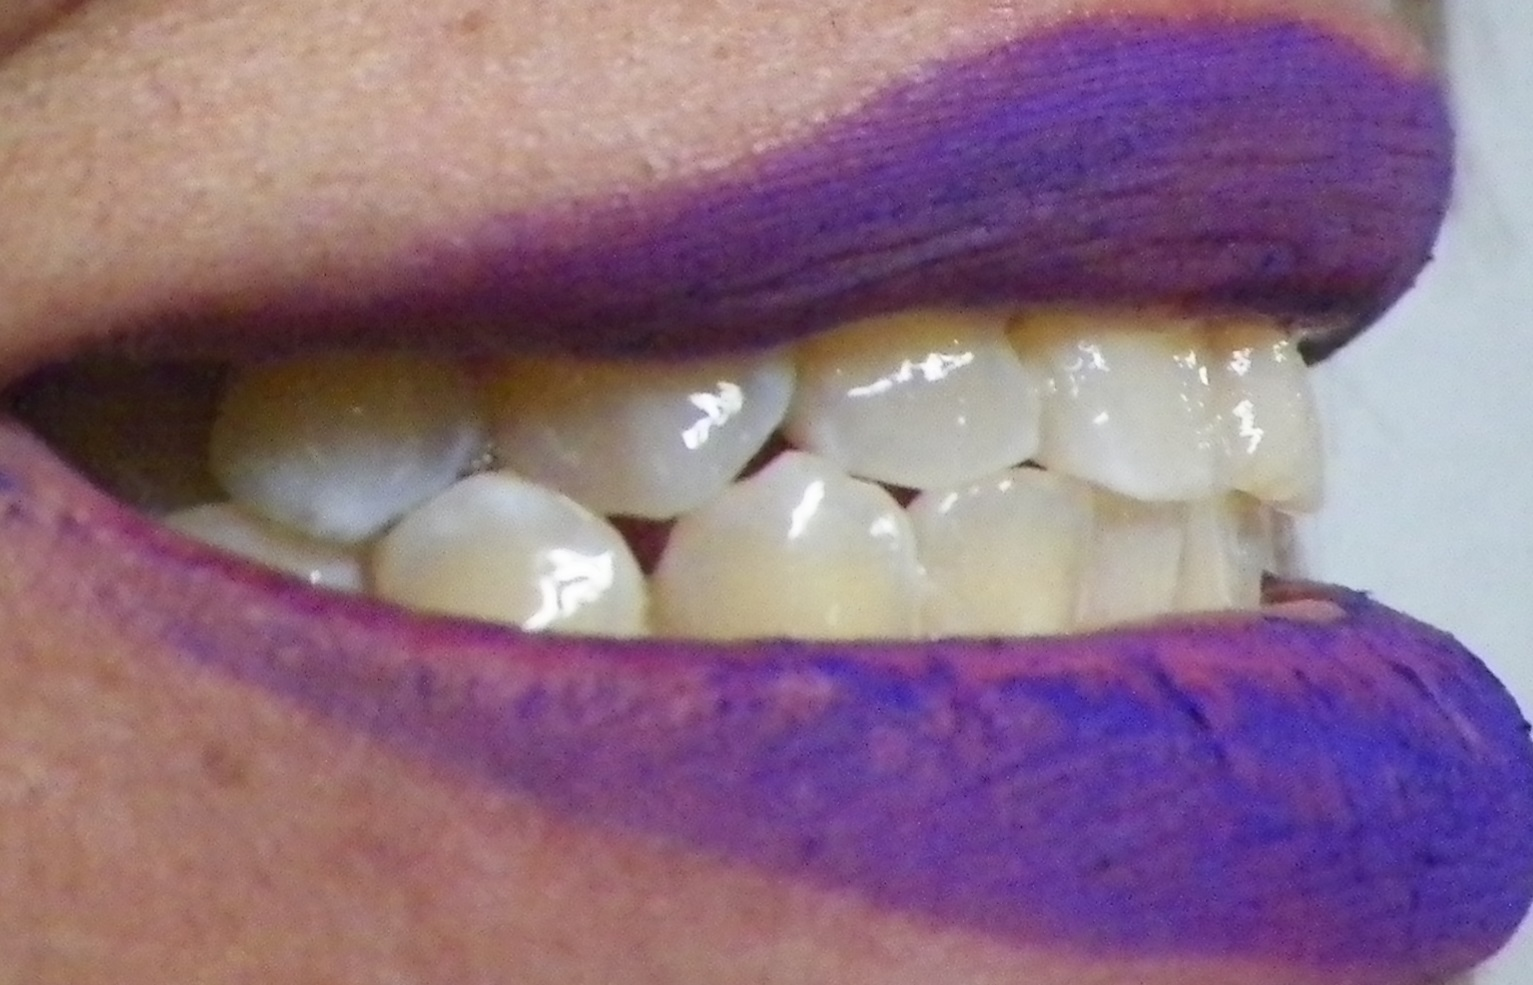boca: (160, 321, 1324, 637)
